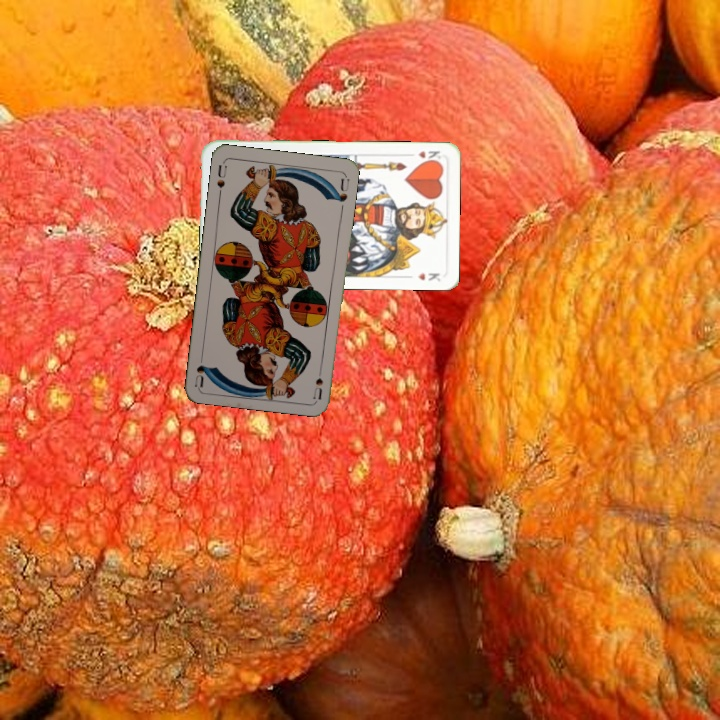HK: (414, 147, 443, 165)
SU: (213, 159, 230, 199), (309, 360, 325, 401)
